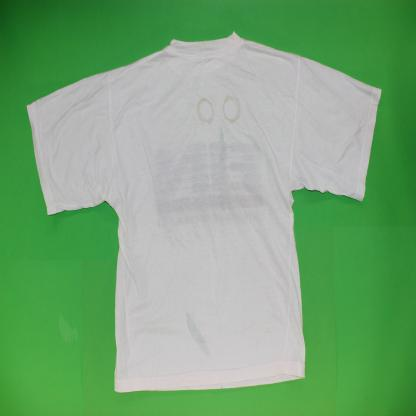stain: (221, 92, 242, 124), (195, 95, 215, 127)
